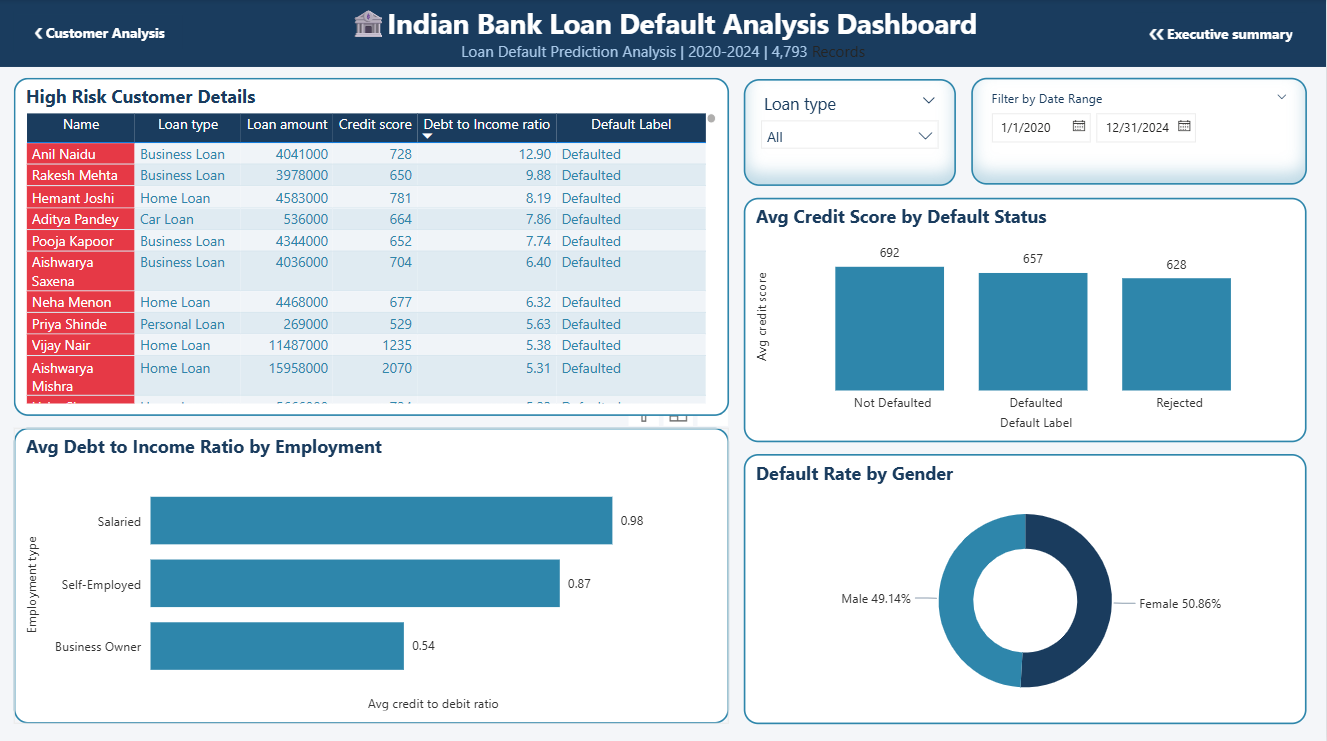

The page's visual inventory and layout, read from the dashboard file:
{"tool":"powerbi","page":{"name":"Risk Analysis","canvas":[1280,720],"ordinal":2},"visuals":[{"type":"slicer","fields":{"Values":["loan_powerbi.loan_type"]},"box":[717.7,76.8,204.5,102.9],"z":0},{"type":"slicer","fields":{"Values":["loan_powerbi.loan_application_date"]},"box":[937.2,75.5,323.8,102.9],"z":1000},{"type":"clusteredColumnChart","title":" Avg Credit Score by Default Status","fields":{"Category":["loan_powerbi.Default Label"],"Y":["Avg(loan_powerbi.credit_score)"]},"box":[717.7,192.1,543.4,236],"z":2000},{"type":"clusteredBarChart","title":"Avg Debt to Income Ratio by Employment","fields":{"Category":["loan_powerbi.employment_type"],"Y":["Avg(loan_powerbi.debt_to_income_ratio)"]},"box":[13.7,414.4,690.2,285.4],"z":3000},{"type":"donutChart","title":"Default Rate  by Gender","fields":{"Category":["loan_powerbi.gender"],"Y":["_Measures (2).Default Rate %"]},"box":[717.7,439.1,543.4,260.7],"z":4000},{"type":"tableEx","title":"High Risk Customer Details","fields":{"Values":["loan_powerbi.full_name","loan_powerbi.loan_type","Sum(loan_powerbi.loan_amount)","Sum(loan_powerbi.credit_score)","Sum(loan_powerbi.debt_to_income_ratio)","loan_powerbi.Default Label"]},"box":[13.7,75.5,690.2,326.6],"z":5000},{"type":"textbox","box":[0,0,1280.3,65.9],"z":6000},{"type":"actionButton","box":[13.7,12.3,166,39.8],"z":7000},{"type":"actionButton","box":[1095,13.7,166,39.8],"z":8000}]}

Visuals, with their boxes in screenshot pixels (x1, y1, x2, y2), scaled from the page's 1280x720 canvas onto the 1327x741 screenshot:
slicer - loan_powerbi.loan_type: (744,79,956,185)
slicer - loan_powerbi.loan_application_date: (972,78,1307,184)
" Avg Credit Score by Default Status" clusteredColumnChart: (744,198,1307,441)
"Avg Debt to Income Ratio by Employment" clusteredBarChart: (14,426,730,720)
"Default Rate  by Gender" donutChart: (744,452,1307,720)
"High Risk Customer Details" tableEx: (14,78,730,414)
textbox: (0,0,1326,68)
actionButton: (14,13,186,54)
actionButton: (1135,14,1307,55)
